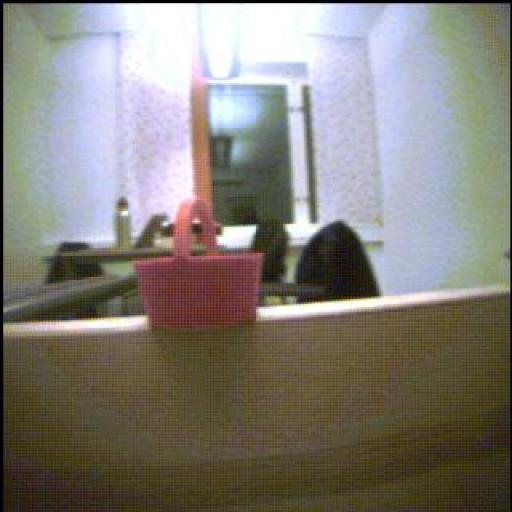Bucket: (132, 195, 269, 330)
